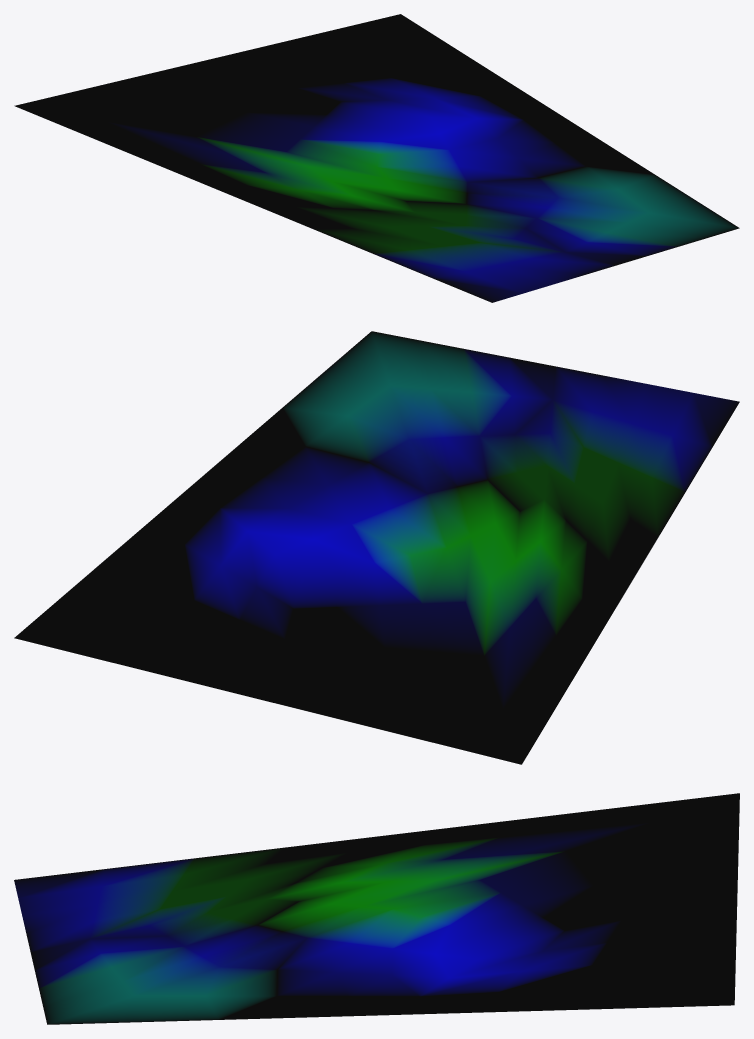
3 views of the same model, one above another, from view 1: azimuth 30°, elevation 25°; view 2: azimuth 150°, elevation 25°; view 3: azimuth 270°, elevation 25° (orthographic). The views are drawn at different scales.
Visible parts, largest first — view 1: Sprite; view 2: Sprite; view 3: Sprite.
Boxes of the visible parts, <box> form: Sprite: <box>14,14,739,302</box>; Sprite: <box>14,331,739,764</box>; Sprite: <box>14,793,739,1024</box>.
Bounding box in the file's own units: 995 × 0.7282 × 1319.
